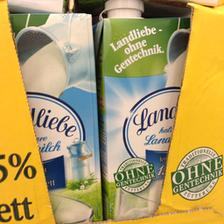Milch: (3, 11, 106, 223), (96, 0, 194, 220)
